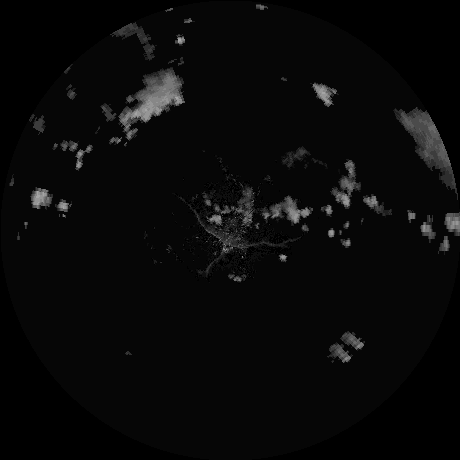frontgust: (188, 210, 287, 249)
